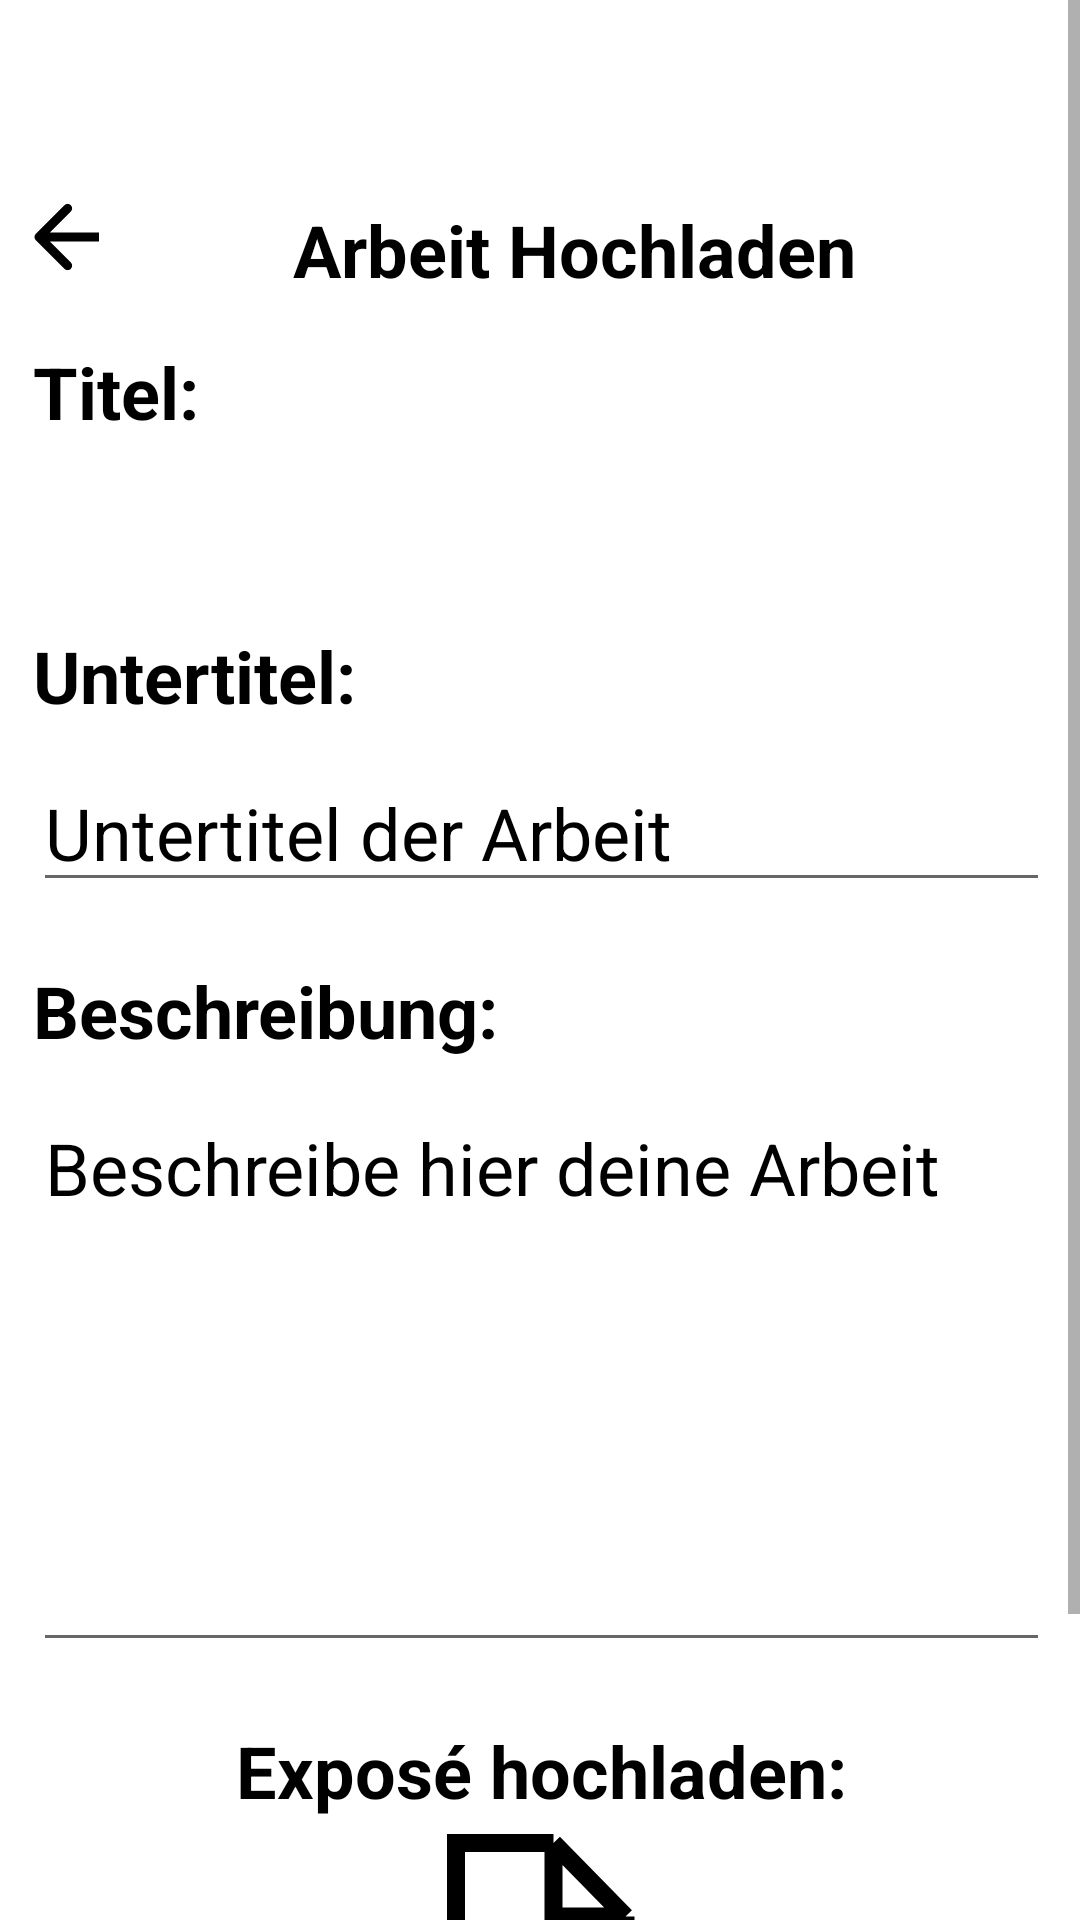

Where icons sit on this 1080 × 1920 app screen, as box(x1, y1, x2, y2):
backarrow: box(34, 204, 99, 270)
